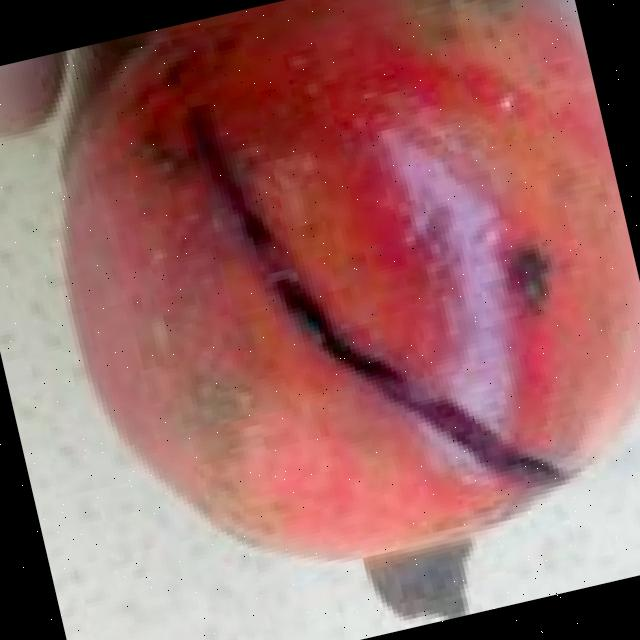Bad_Pomegranate-0-1-day: (55, 0, 640, 617)
